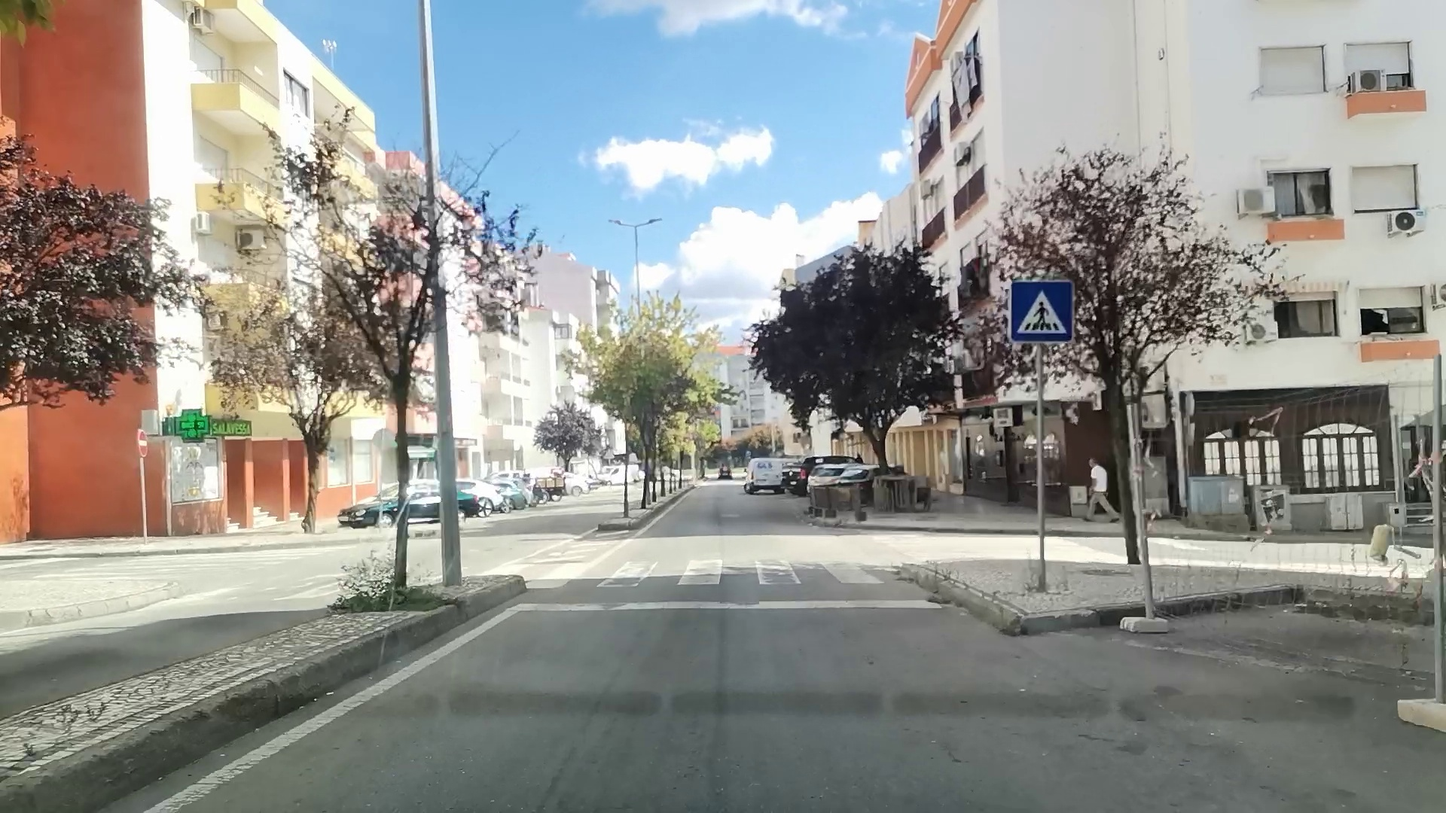Stairs: (569, 558, 891, 590)
